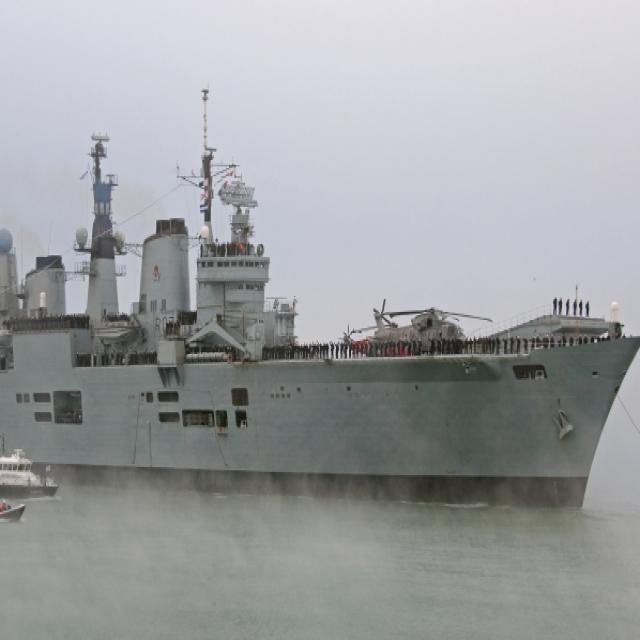Portanaves: (1, 85, 640, 520)
